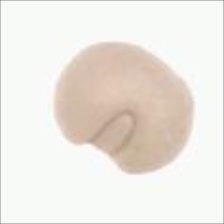L5: (90, 108, 138, 157)
L6: (51, 39, 195, 175)
